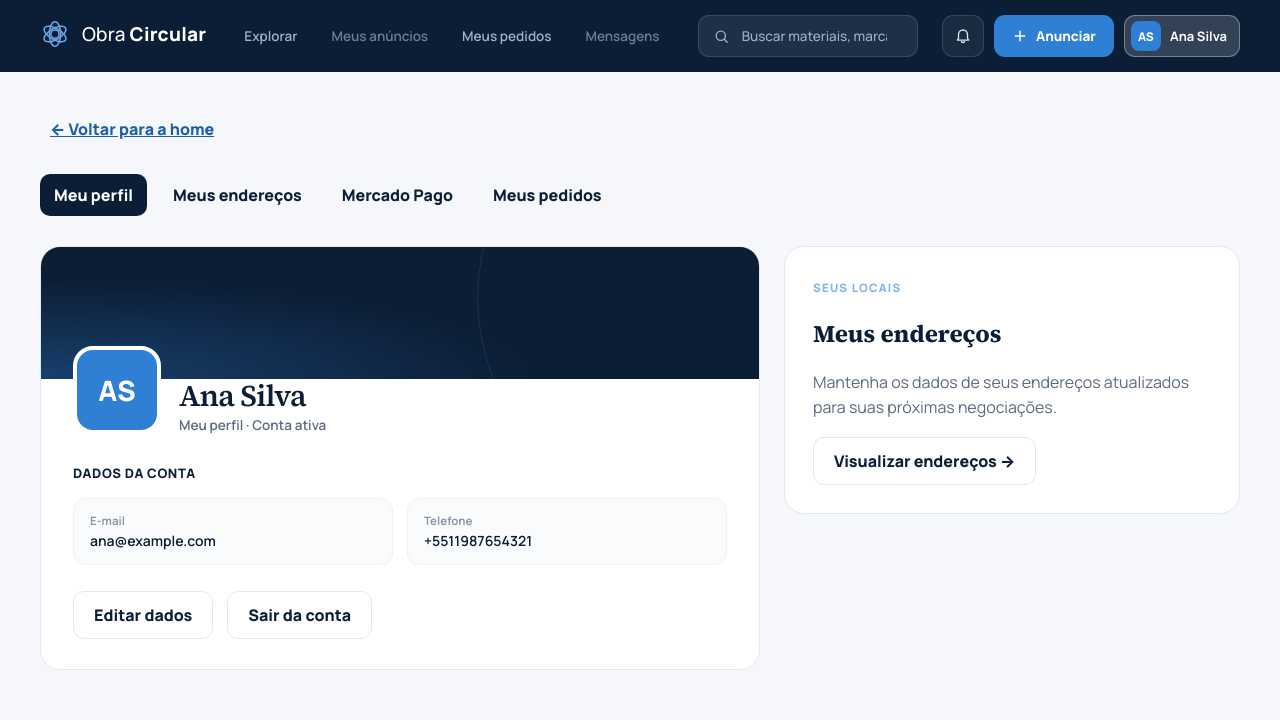
salva o próprio perfil, remove telefone e sincroniza a sessão e o cabeçalho
Click the button "Editar dados".
click(143, 615)  # box [73,591,213,639]
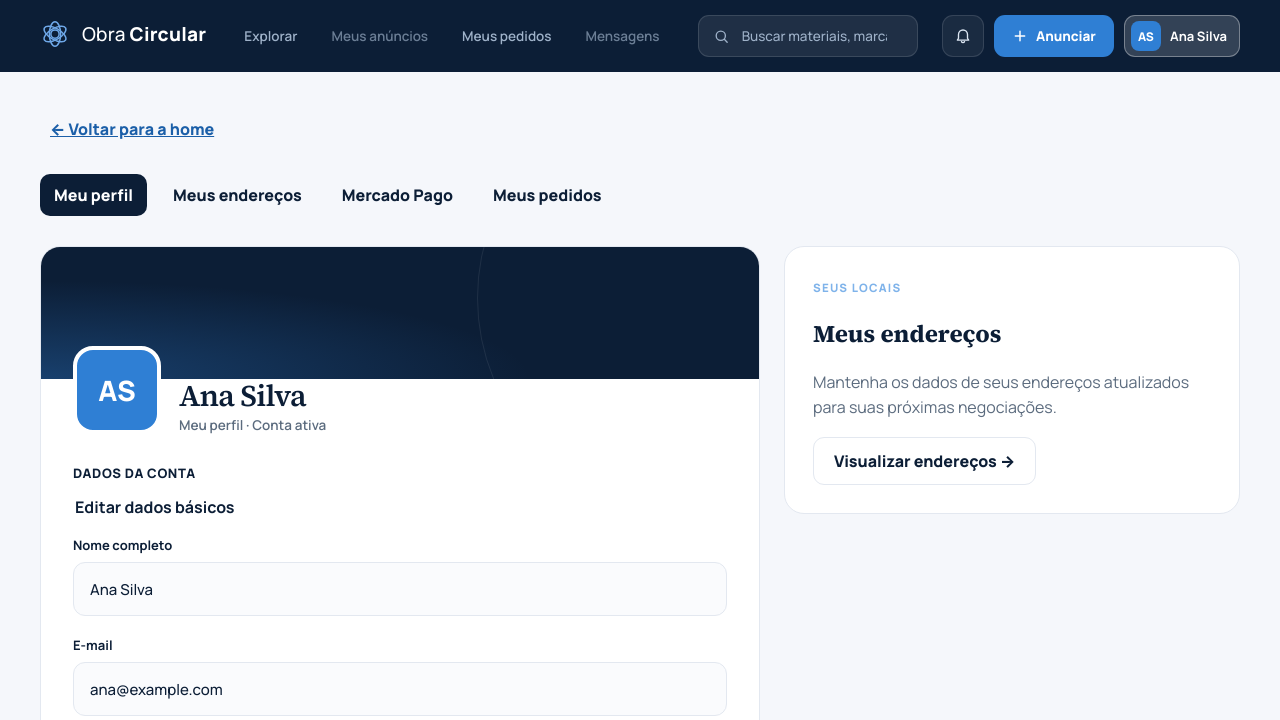
Replace the text in the field labelled "Nome completo" with " Ana Maria " at point(400, 589), box [90,563,710,615]
(page scrolled)
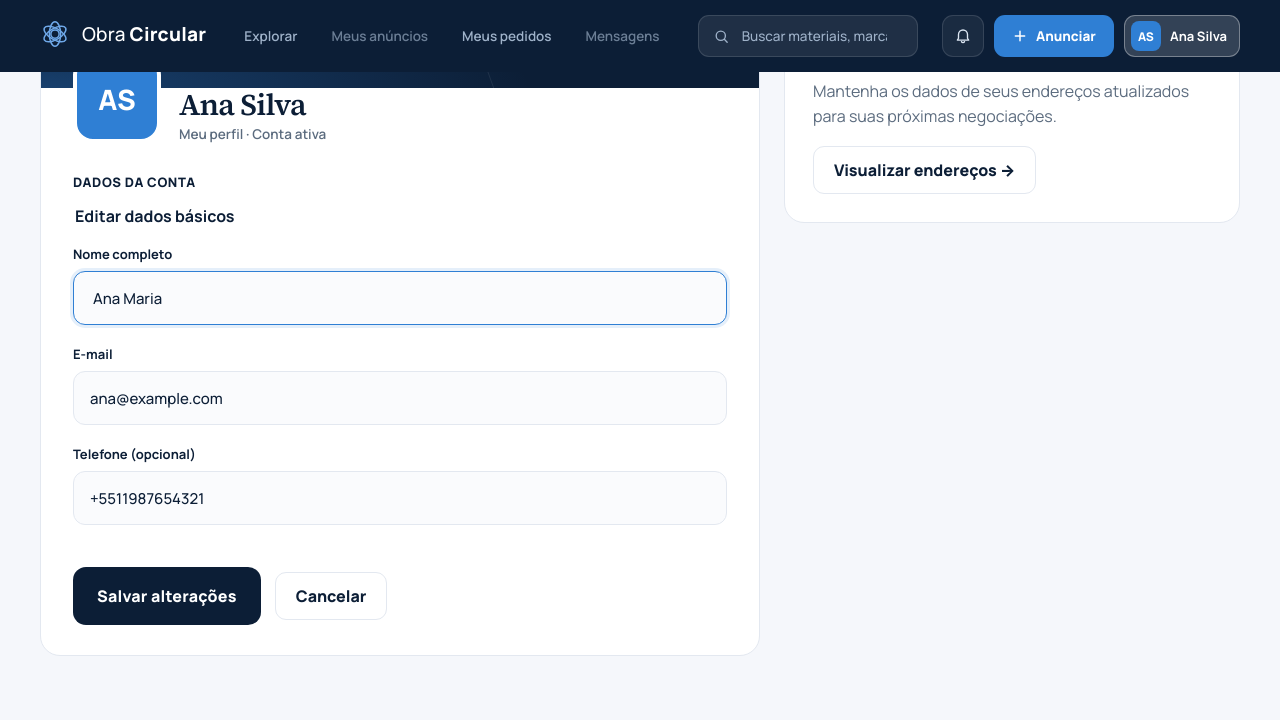
Clear the field labelled "Telefone (opcional)" at point(400, 498), box [90,472,710,524]
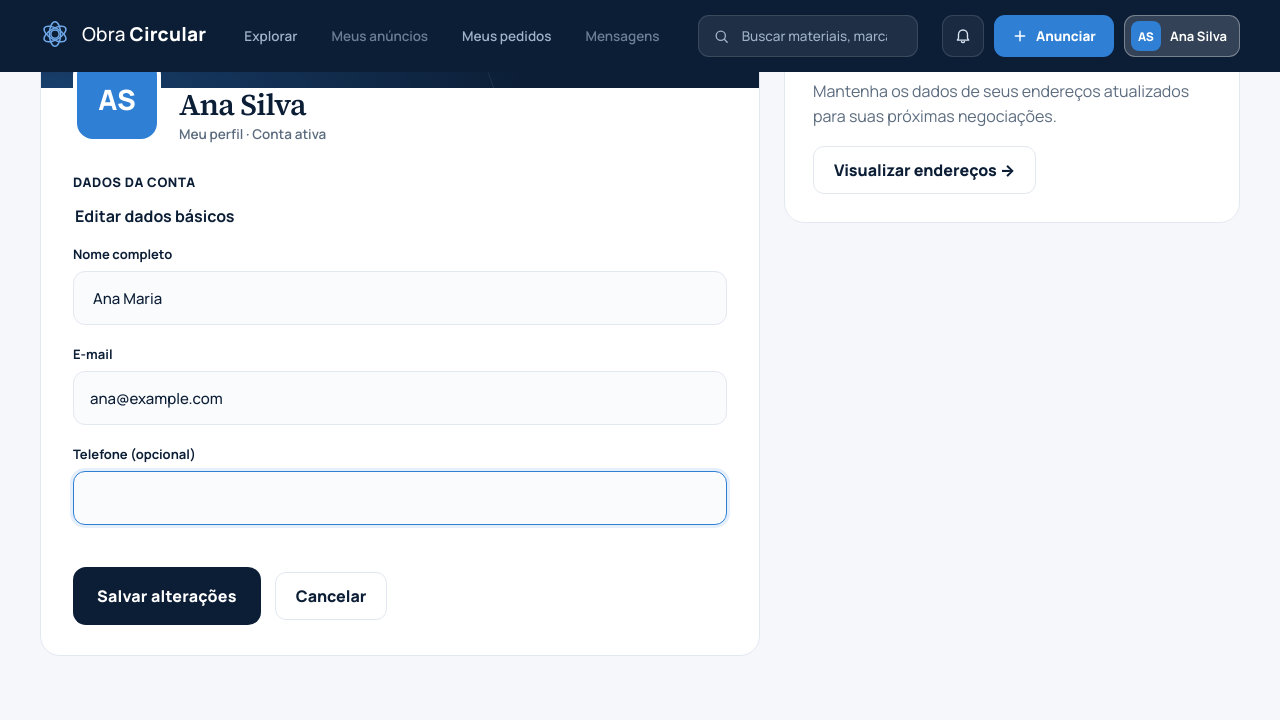
Click the button "Salvar alterações".
click(167, 596)  # box [73,567,261,625]
(page scrolled)
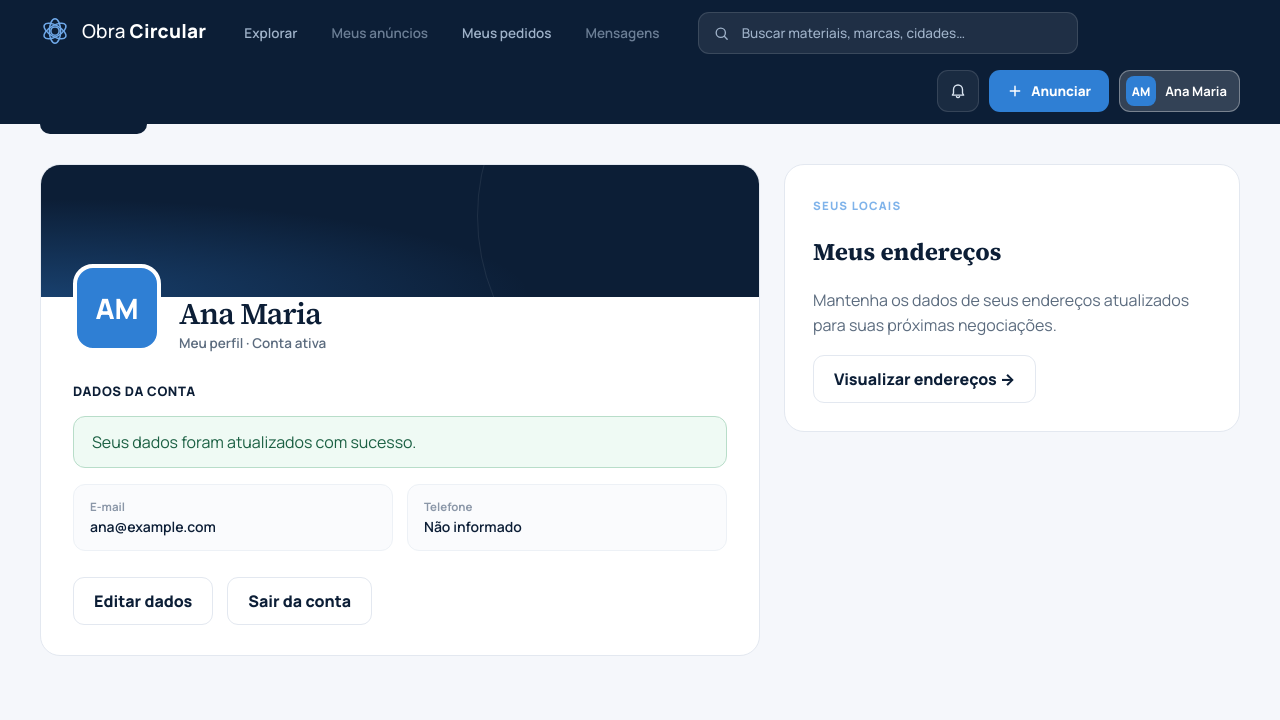
expect the text "Ana Maria" is shown 2 times: met, box [1165,82,1233,100]; [179,297,326,330]
expect the text "Seus dados foram atualizados com sucesso." is shown: met, box [73,416,727,468]
expect the text "Ana Maria" is shown: met, box [1165,82,1233,100]
